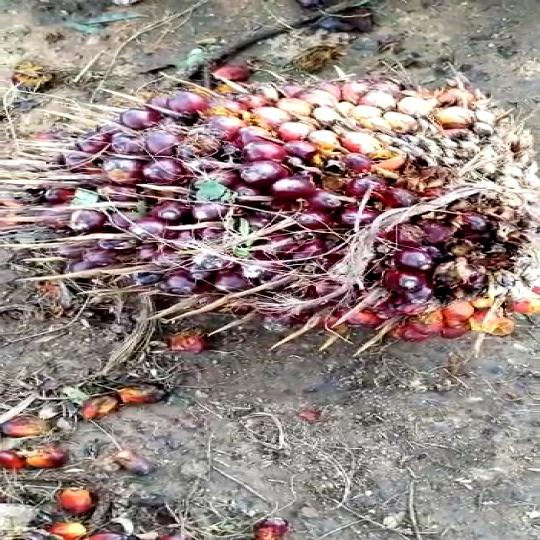masak: (7, 66, 540, 362)
